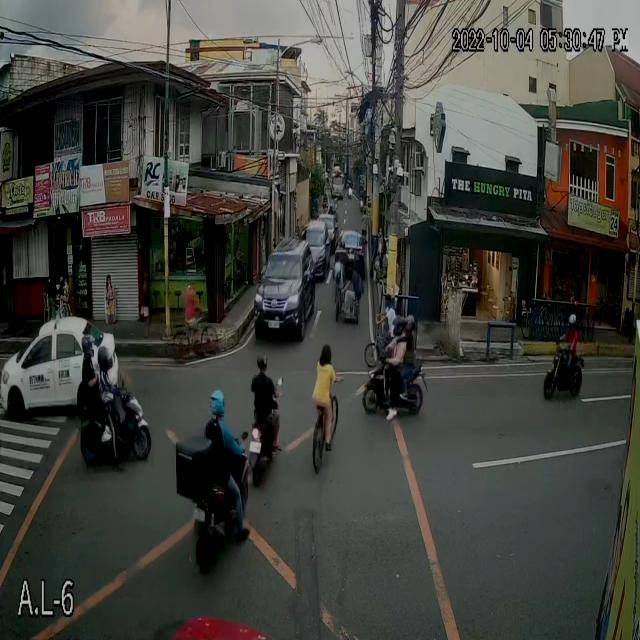Full-Faced: (204, 386, 223, 417), (99, 347, 118, 368), (405, 311, 417, 338), (568, 312, 578, 342), (81, 335, 92, 357), (338, 237, 347, 261), (390, 318, 402, 336)
Half-Faced: (255, 349, 268, 384)
Not-Wearing-Helmet: (320, 337, 331, 364)
